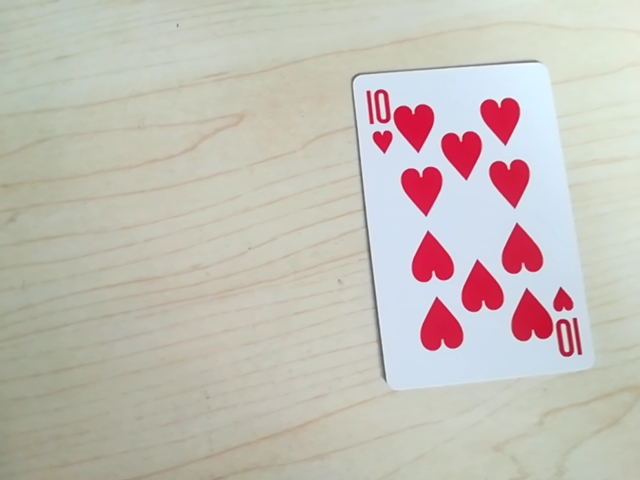hx 10: (361, 85, 404, 144), (545, 305, 580, 362)
